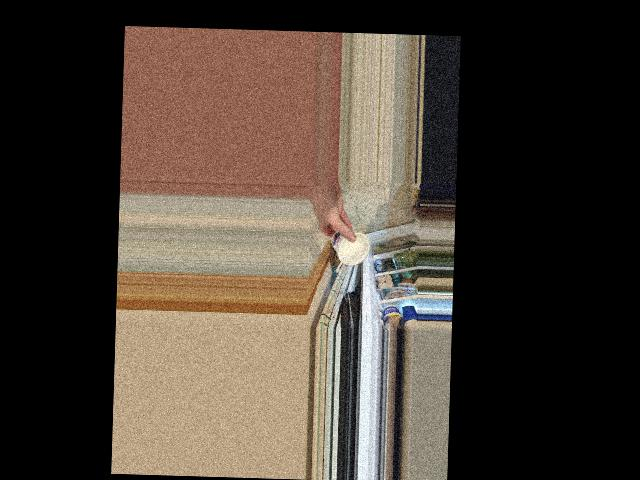cotage: (328, 226, 370, 269)
